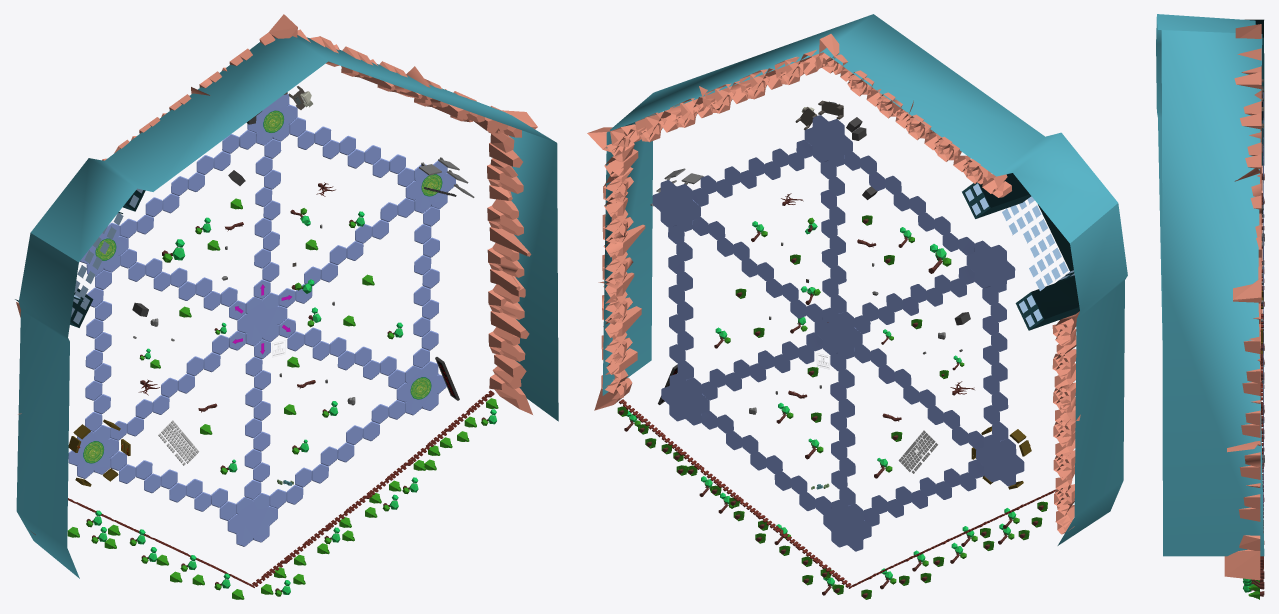
The picture shows the model from 3 angles, left to right: view 1: azimuth 30°, elevation 25°; view 2: azimuth 150°, elevation 25°; view 3: azimuth 270°, elevation 25°; orthographic projection. The views are drawn at different scales.
Visible parts, largest first — view 1: Plane.001, Circle.015, Circle.014, пол.010, пол.008, пол.011, пол.002, пол.003, пол.005, пол.006, пол.001, пол.012 (+13 smaller); view 2: Plane.001, Circle.015, Circle.014, Circle.032, Circle.001, stone2.001, пол.008, пол.010, пол.002, пол.004, пол.005, пол.001 (+15 smaller); view 3: Plane.001, Circle.015, Circle.014, stone2.001, Circle.001.
Boxes of the visible parts, x1,y1,x2,y2 form: Plane.001: (16,35,558,578); Circle.015: (487,132,532,414); Circle.014: (297,29,537,137); пол.010: (413,206,439,367); пол.008: (85,270,111,431); пол.011: (269,400,405,508); пол.002: (244,339,270,499); пол.003: (120,130,255,238); пол.005: (253,139,281,299); пол.006: (120,248,245,320); пол.001: (279,318,404,389); пол.012: (110,451,236,520); Plane.001: (602,14,1127,545); Circle.015: (594,141,645,410); Circle.014: (587,49,831,156); Circle.032: (1052,311,1080,534); Circle.001: (819,34,1011,197); stone2.001: (962,173,1079,330); пол.008: (982,286,1008,441); пол.010: (668,225,693,380); пол.002: (830,353,855,505); пол.004: (692,217,822,322); пол.005: (820,160,846,313); пол.001: (701,332,822,400); Plane.001: (1156,14,1264,556); Circle.015: (1224,302,1260,580); Circle.014: (1233,48,1261,302); stone2.001: (1245,19,1264,165); Circle.001: (1235,24,1261,38).
Size of what is drawn, in the model's own units: 138 by 149 by 25.57.
Materials: 51 (10 with a texture image).
